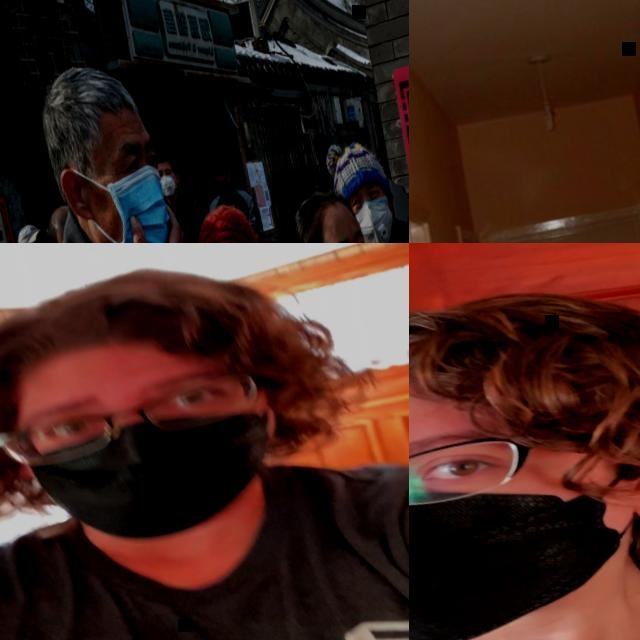Mask: (409, 440, 640, 640), (18, 398, 294, 558), (100, 162, 179, 243), (353, 193, 400, 243), (158, 173, 178, 200), (216, 180, 232, 198)
NO-Hardhat: (0, 243, 295, 414), (409, 263, 640, 452), (31, 53, 144, 167), (286, 186, 362, 243), (325, 135, 390, 198), (191, 199, 259, 243), (47, 203, 73, 243), (205, 151, 228, 175), (15, 222, 40, 243), (154, 145, 175, 166), (34, 225, 57, 243), (310, 129, 329, 149), (376, 144, 388, 158)
NO-Safety Vest: (0, 436, 409, 640), (409, 559, 640, 640), (170, 206, 200, 243), (316, 165, 329, 188), (378, 156, 391, 178)
Person: (0, 243, 409, 640), (409, 248, 640, 640), (308, 133, 340, 195), (374, 140, 390, 178)
